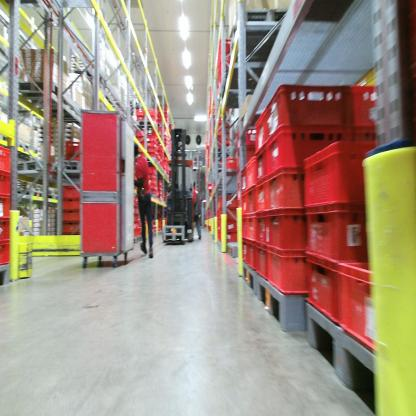pallet: (303, 298, 383, 411), (224, 7, 289, 64), (255, 267, 306, 337), (17, 79, 68, 106), (16, 158, 58, 182), (241, 260, 256, 300), (56, 159, 81, 174), (223, 239, 239, 260), (11, 137, 31, 152), (1, 264, 12, 289), (135, 119, 159, 130), (161, 224, 186, 234), (161, 234, 186, 244), (16, 188, 33, 200), (33, 186, 45, 201), (157, 123, 166, 129)
pallet_truck: (161, 119, 196, 244)
small_load_carrier: (267, 166, 390, 354), (303, 137, 375, 213), (269, 82, 354, 146), (304, 196, 374, 270), (303, 246, 340, 324), (265, 123, 314, 176), (268, 240, 310, 296), (265, 207, 308, 256), (351, 82, 386, 131), (254, 102, 266, 158), (255, 174, 270, 214), (236, 123, 258, 149), (253, 139, 265, 186), (235, 139, 252, 167), (256, 243, 268, 277), (257, 211, 268, 248), (215, 206, 238, 222), (57, 197, 83, 211), (60, 185, 84, 200), (237, 191, 251, 216), (247, 235, 257, 269), (0, 240, 12, 267), (63, 140, 86, 154), (0, 169, 11, 198), (246, 156, 255, 191), (64, 148, 85, 163), (1, 194, 13, 220), (238, 165, 248, 196), (1, 147, 12, 175), (248, 184, 258, 213), (61, 210, 83, 223), (0, 216, 10, 244), (215, 220, 236, 233), (219, 192, 238, 206), (222, 154, 239, 169), (250, 211, 257, 247), (61, 223, 82, 235), (239, 216, 248, 243), (242, 239, 248, 263)
